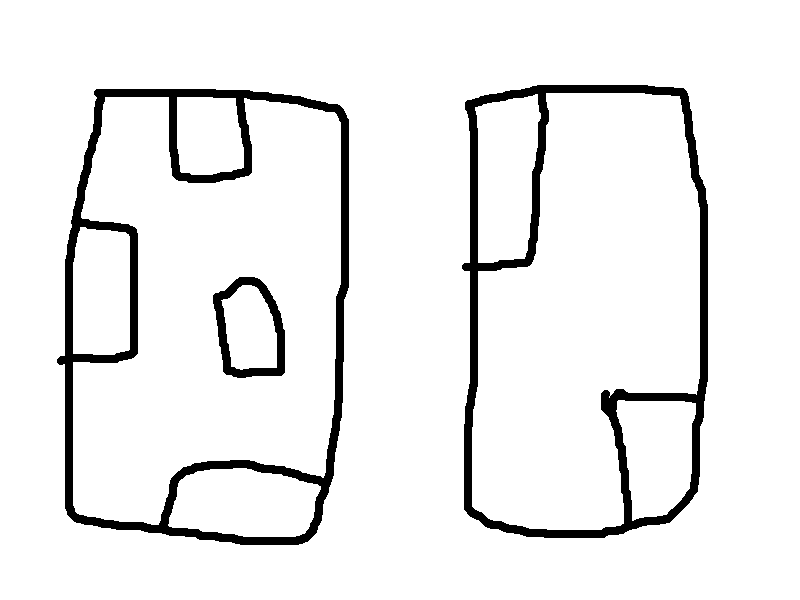rect: (460, 85, 554, 276), (597, 376, 711, 531), (154, 454, 333, 544), (57, 213, 143, 366), (158, 88, 256, 185), (209, 273, 293, 382)
